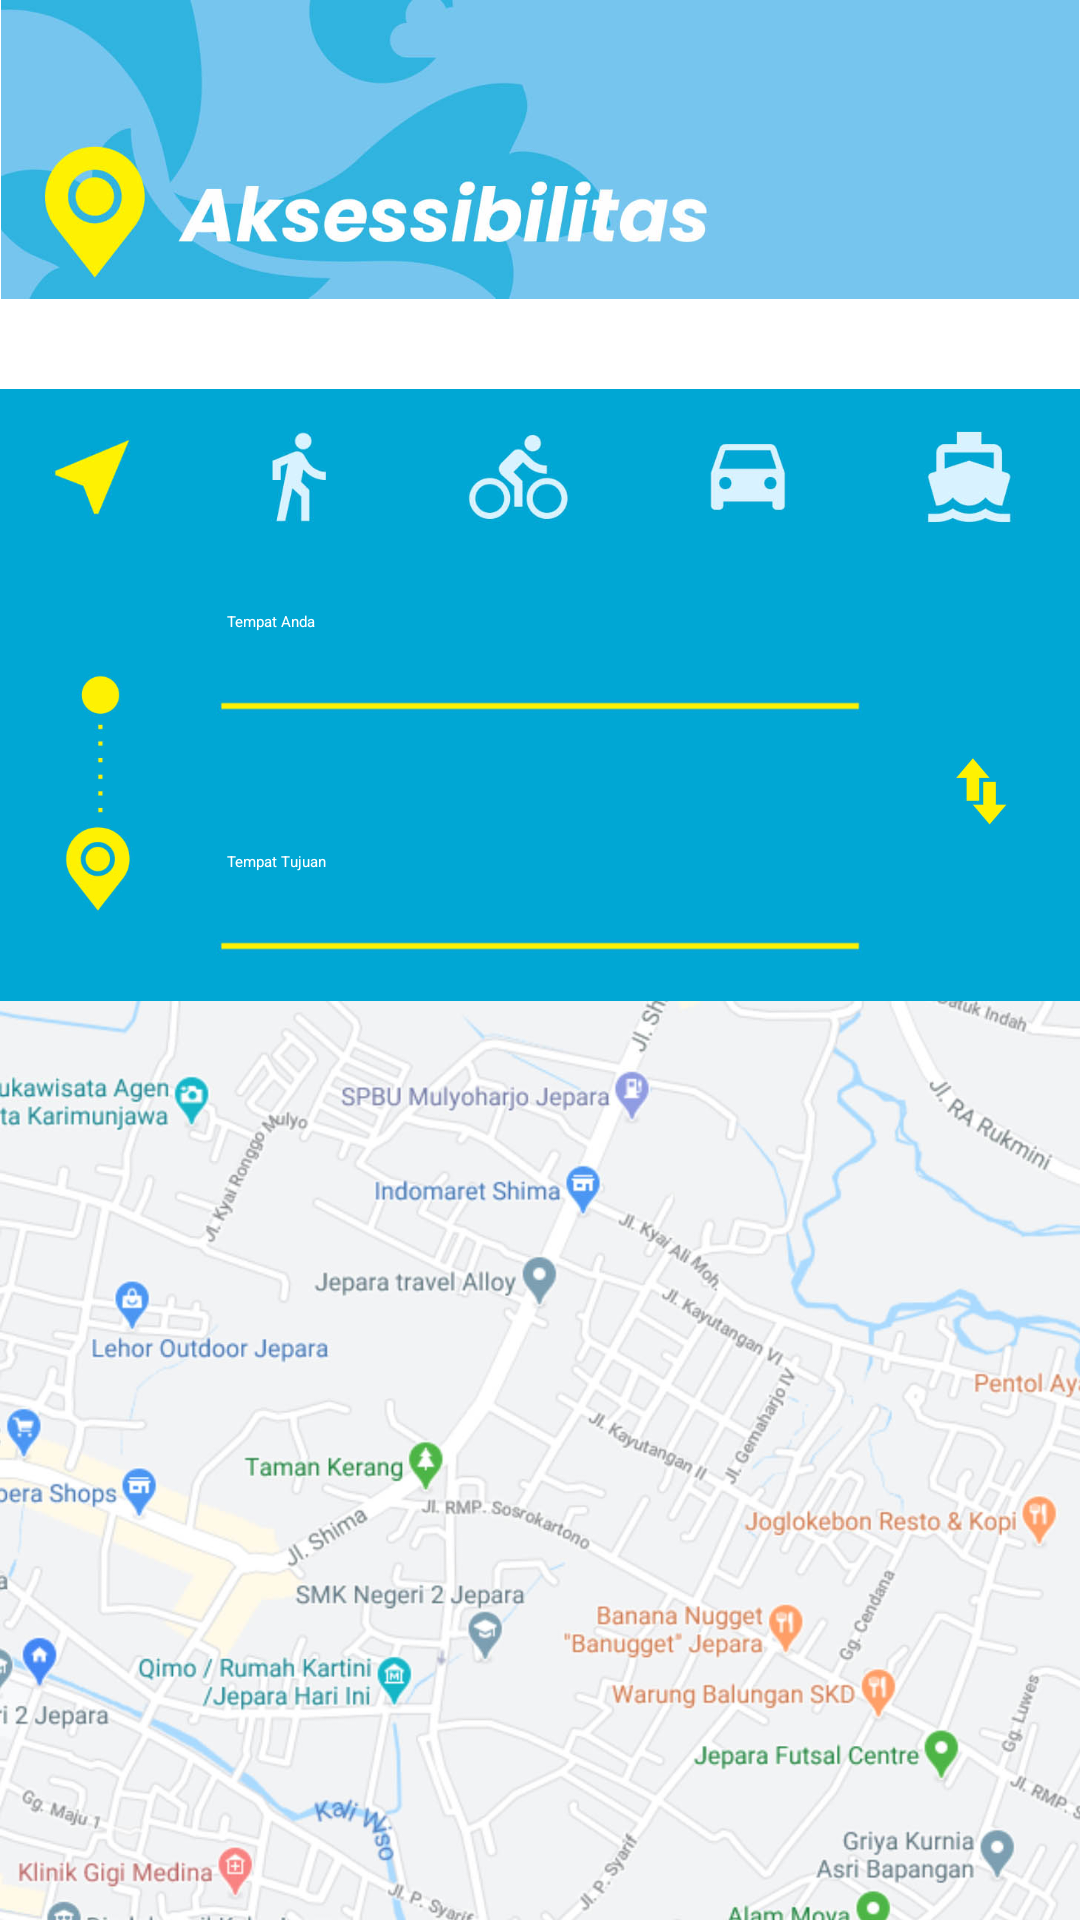

Locate icon controls on the screen. Image size 1080w x 1920h, boxes as (x1, y1, x2, y2).
from to: (66, 676, 130, 911)
switch: (955, 758, 1006, 825)
